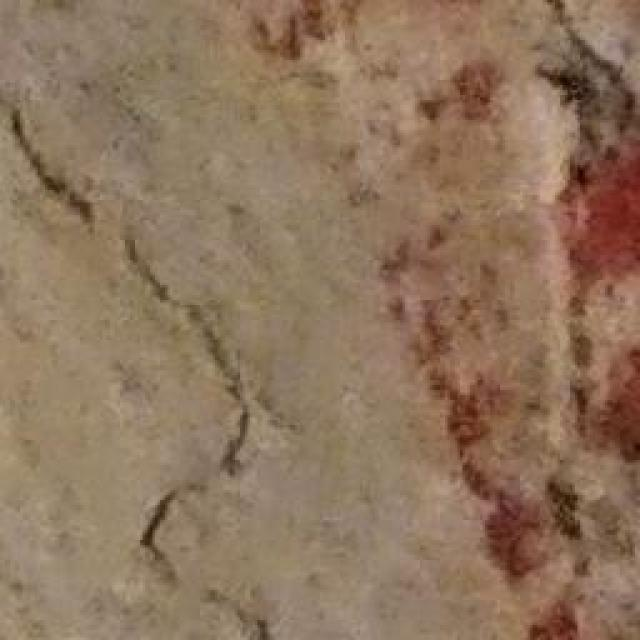Diagonal: (0, 100, 285, 638)
Rippled: (532, 0, 640, 485)
